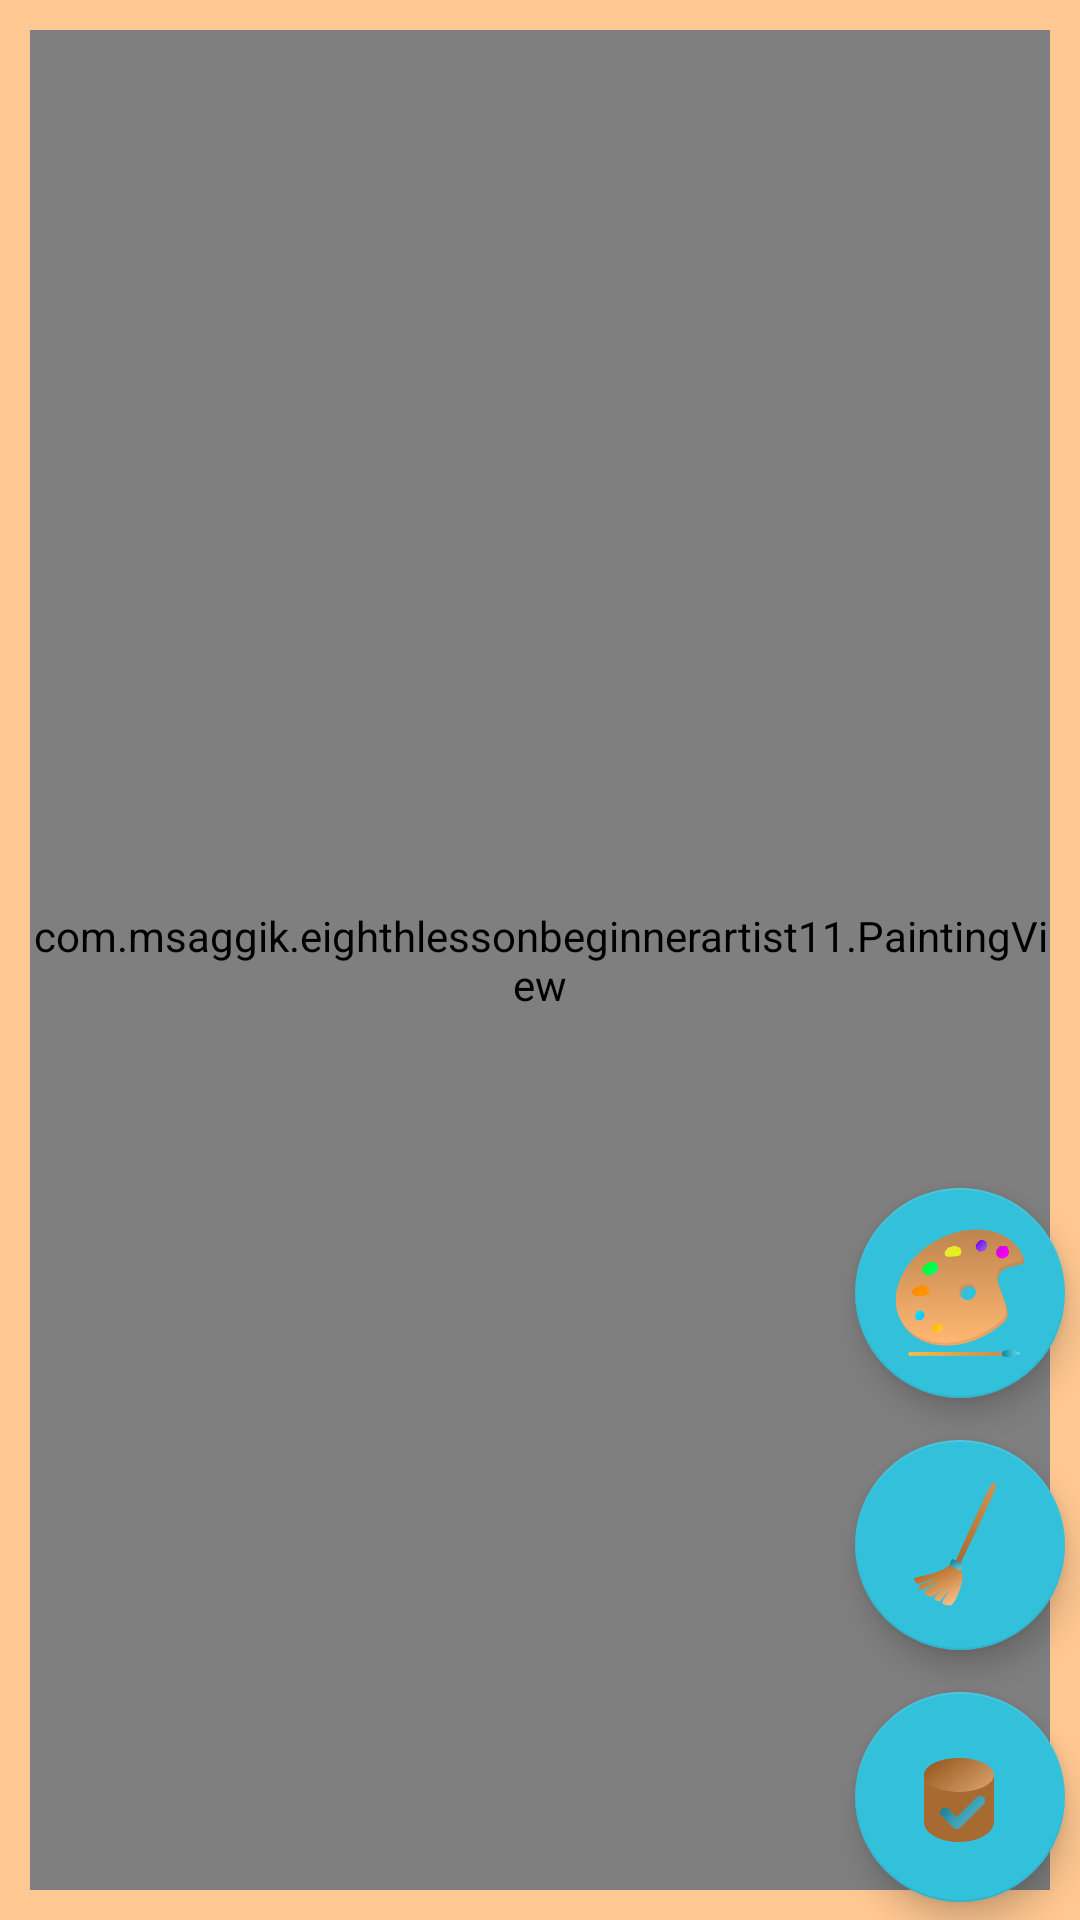

Icons on this 1080×1920 Android screen, each with the point to tap as point (x, y):
broom: point (960, 1545)
palette: point (960, 1293)
save: point (960, 1797)
